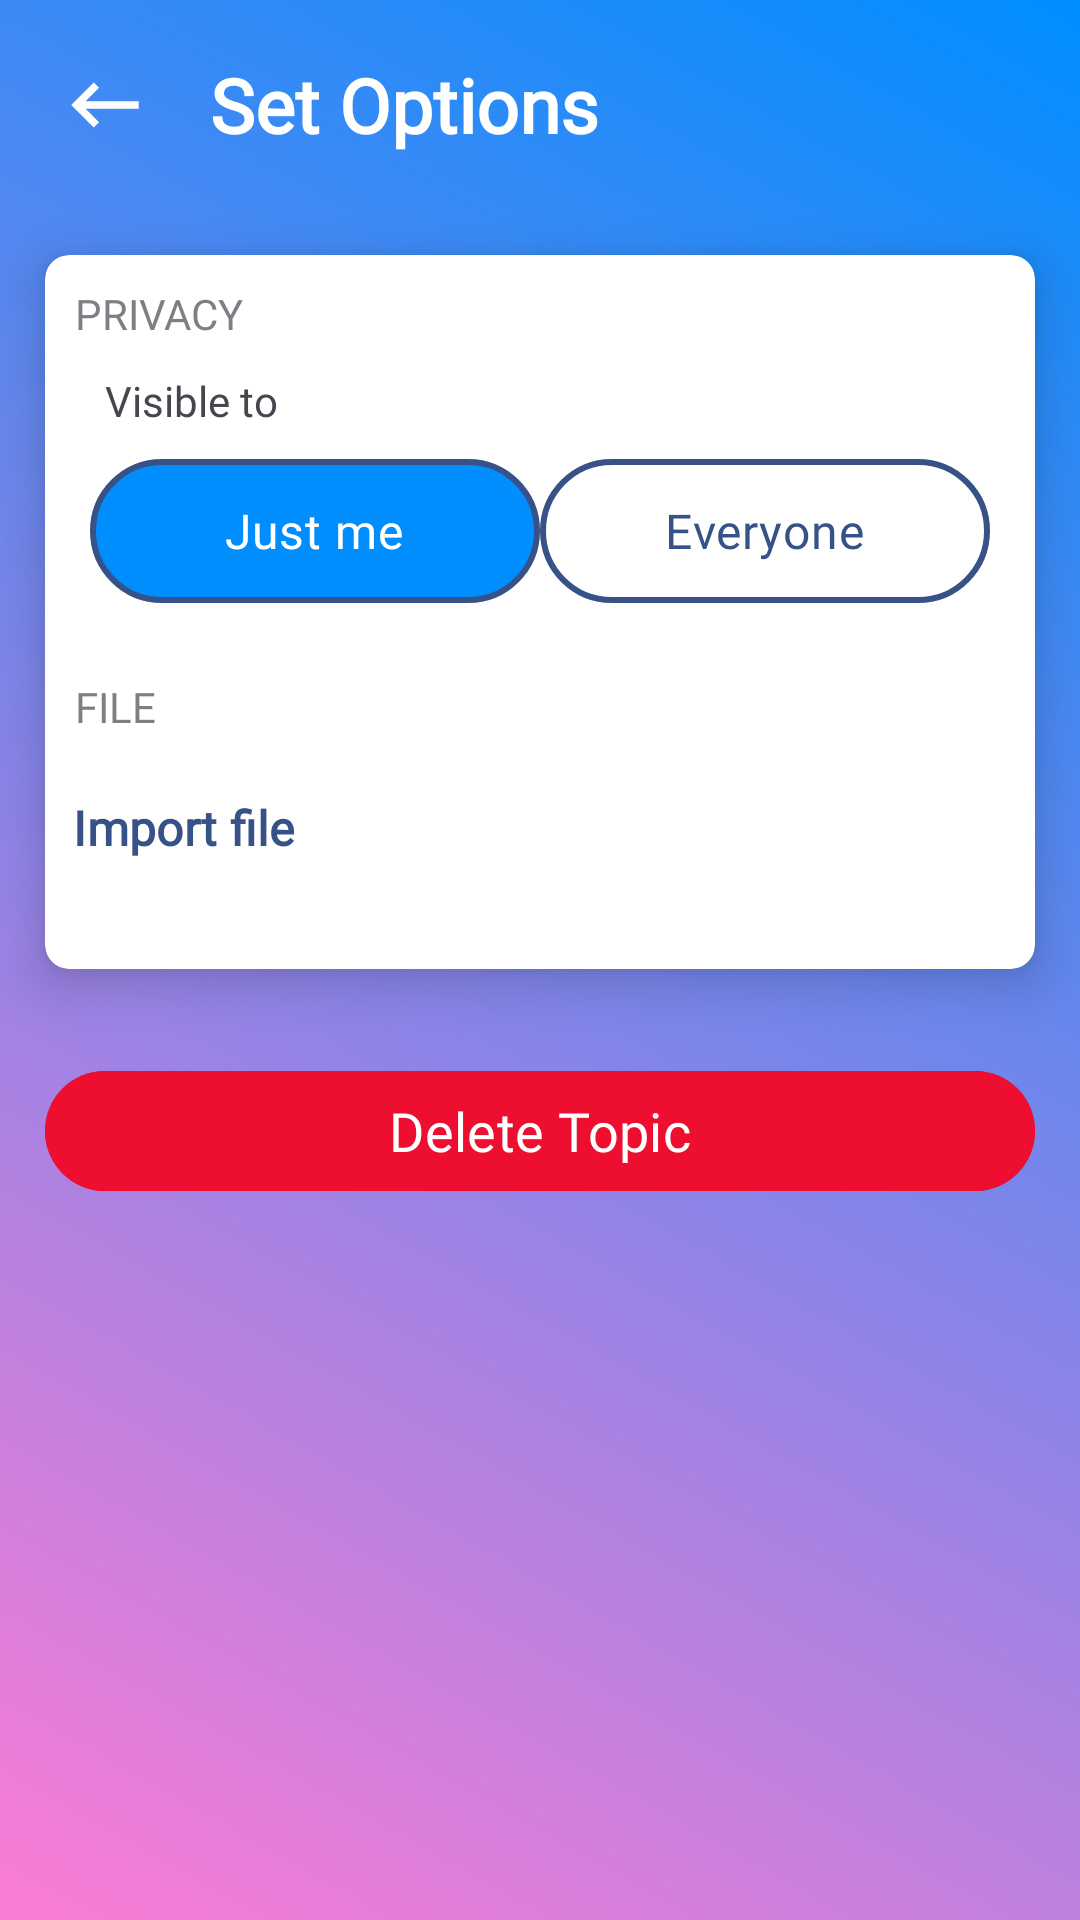

Named icons in this screenshot (1080x1920) and their centers, [x,y]:
keyboard backspace: [105,105]
